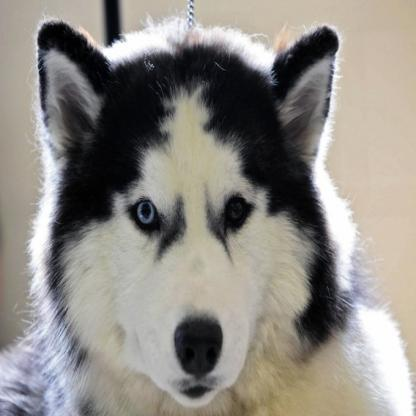husky: (0, 19, 399, 416)
